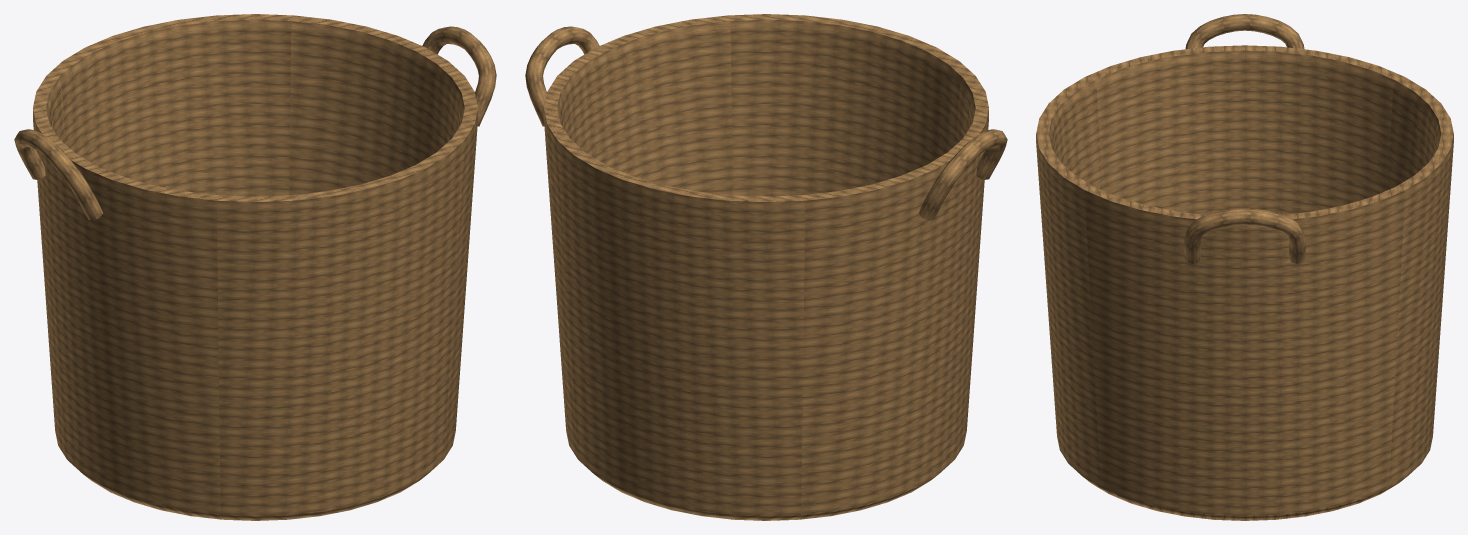
File: ap_basket.glb
3 renders of one model, left to right at view 1: azimuth 30°, elevation 25°; view 2: azimuth 150°, elevation 25°; view 3: azimuth 270°, elevation 25°, orthographic. The views are drawn at different scales.
Visible parts, largest first — view 1: ap_basket; view 2: ap_basket; view 3: ap_basket.
Boxes of the visible parts, box(x1,y1,x2,y2) form: ap_basket: box(14, 14, 496, 520); ap_basket: box(525, 14, 1007, 520); ap_basket: box(1036, 14, 1453, 520).
Bounding box in the file's own units: 0.455 × 0.3525 × 0.4.
1 material, 1 textured.
